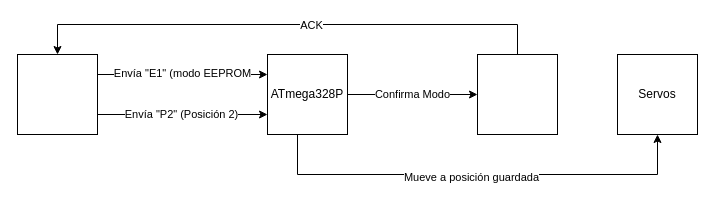
The diagram is 715 pixels wide and 201 high, and some of its shapes have lost their labels. The centre of each missing label's shape, as x and y in pixels:
"AdafruitIO" goes at point (517, 94).
"Python" goes at point (57, 94).
